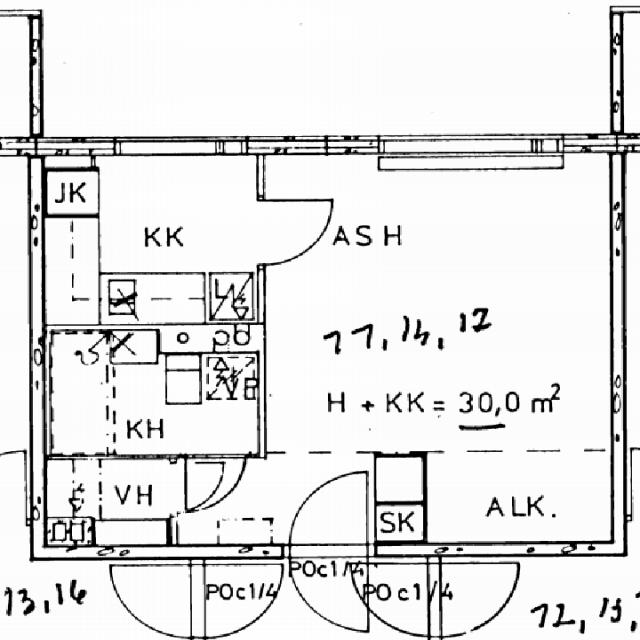door: (288, 466, 369, 556), (288, 541, 369, 630), (258, 200, 336, 266), (185, 453, 245, 516), (170, 463, 232, 513)
